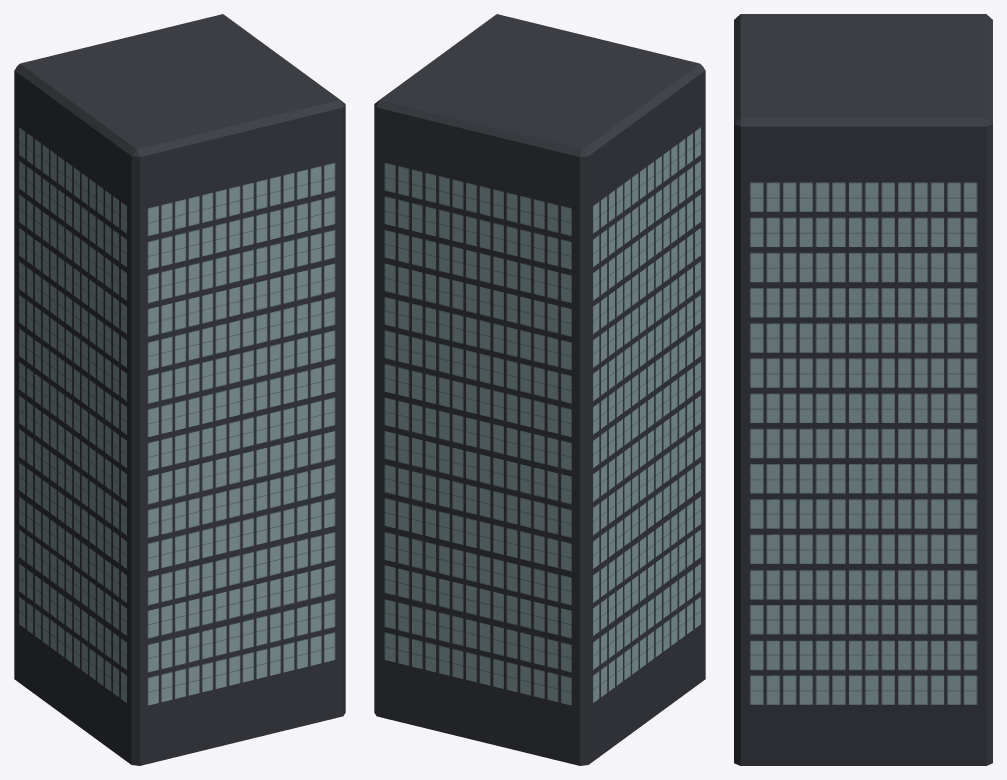
Rendered from Mob building_B.fbx.
3 renders of one model, left to right at view 1: azimuth 30°, elevation 25°; view 2: azimuth 150°, elevation 25°; view 3: azimuth 270°, elevation 25°, orthographic. The views are drawn at different scales.
Parts seen in each view (by area): view 1: Mob building_B; view 2: Mob building_B; view 3: Mob building_B.
Part boxes in pixels (x1,y1,x2,y2): Mob building_B: (14,14,345,765); Mob building_B: (374,14,705,765); Mob building_B: (734,14,992,765).
Size of the model in its own units: 20.05 by 20 by 55.
